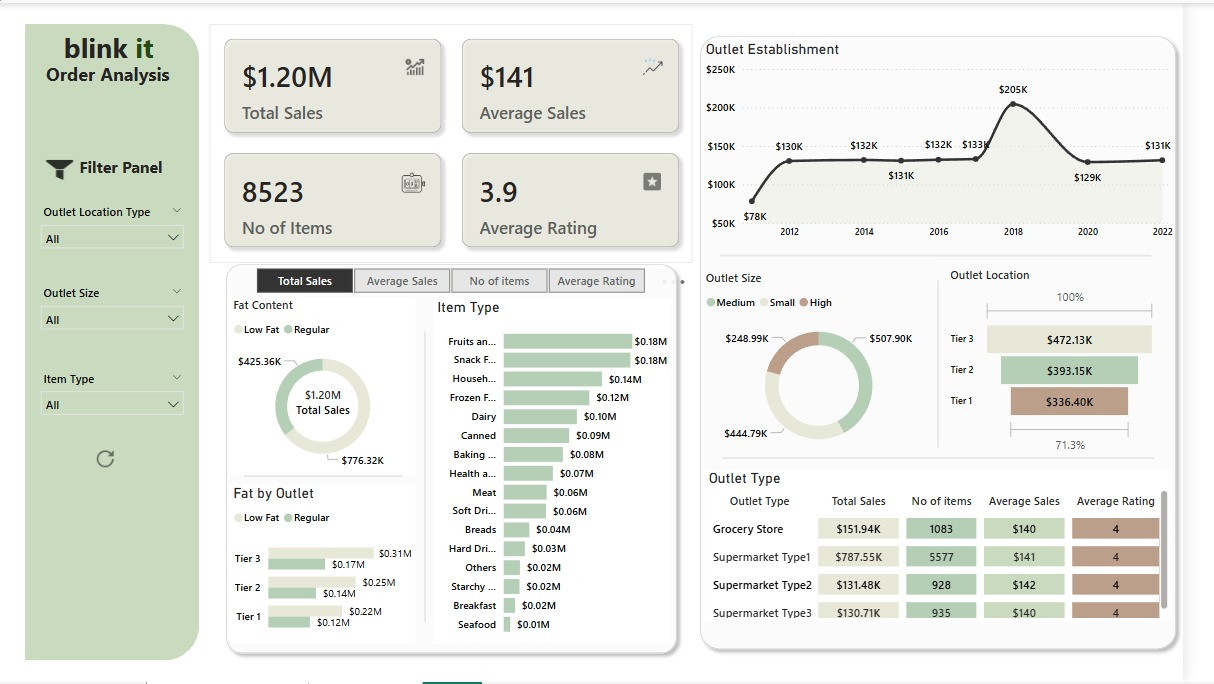

Layout of this report page (visuals, bound fields, positions):
{"tool":"powerbi","page":{"name":"Blinkit order","canvas":[1400,800],"ordinal":0},"visuals":[{"type":"shape","box":[35.1,24.5,205.3,750],"z":0},{"type":"cardVisual","fields":{"Data":["BlinkIT Grocery Data.Total Sales","BlinkIT Grocery Data.Average Sales","BlinkIT Grocery Data.No oF items","BlinkIT Grocery Data.Avg Rating"]},"box":[252.1,24.5,570.2,281.9],"z":1000},{"type":"shape","box":[262.8,297.9,548.9,476.6],"z":2000},{"type":"donutChart","title":" Fat Content","fields":{"Y":["BlinkIT Grocery Data.Total Sales"],"Category":["BlinkIT Grocery Data.Item Fat Content"]},"box":[275.5,346.8,220.2,210.6],"z":3000},{"type":"slicer","fields":{"Values":["Metrices.Metrices"]},"box":[283,306.4,507.4,42.6],"z":4000},{"type":"cardVisual","fields":{"Data":["BlinkIT Grocery Data.Total Sales"]},"box":[326.6,435.1,119.1,58.5],"z":5000},{"type":"clusteredBarChart","title":"Fat by Outlet","fields":{"Y":["BlinkIT Grocery Data.Total Sales"],"Category":["BlinkIT Grocery Data.Outlet Location Type"],"Series":["BlinkIT Grocery Data.Item Fat Content"]},"box":[275.5,567,220.2,188.3],"z":6000},{"type":"shape","box":[292.6,537.2,187.2,40.4],"z":7000},{"type":"shape","box":[495.7,386.2,20.2,342.6],"z":8000},{"type":"barChart","title":" Item Type","fields":{"Y":["BlinkIT Grocery Data.Total Sales"],"Category":["BlinkIT Grocery Data.Item Type"]},"box":[516,348.9,280.9,406.4],"z":9000},{"type":"shape","box":[821.3,29.8,578.7,740.4],"z":10000},{"type":"lineChart","title":"Outlet Establishment ","fields":{"Category":["BlinkIT Grocery Data.Outlet Establishment Year"],"Y":["BlinkIT Grocery Data.Total Sales"]},"box":[831.9,44.7,559.6,242.6],"z":11000},{"type":"donutChart","title":"Outlet Size","fields":{"Category":["BlinkIT Grocery Data.Outlet Size"],"Y":["BlinkIT Grocery Data.Total Sales"]},"box":[831.9,313.8,275.5,225.5],"z":12000},{"type":"shape","box":[853.2,277.7,508.5,40.4],"z":13000},{"type":"funnel","title":" Outlet Location","fields":{"Y":["BlinkIT Grocery Data.Total Sales"],"Category":["BlinkIT Grocery Data.Outlet Location Type"]},"box":[1121.3,311.7,252.1,224.5],"z":14000},{"type":"shape","box":[1101.1,327.7,20.2,196.8],"z":15000},{"type":"shape","box":[856.4,516,508.5,40.4],"z":16000},{"type":"pivotTable","title":"Outlet Type","fields":{"Rows":["BlinkIT Grocery Data.Outlet Type"],"Values":["BlinkIT Grocery Data.Total Sales","BlinkIT Grocery Data.No of items","BlinkIT Grocery Data.Average Sales","BlinkIT Grocery Data.Average Rating"]},"box":[835.1,550,551.1,178.7],"z":17000},{"type":"slicer","fields":{"Values":["BlinkIT Grocery Data.Outlet Location Type"]},"box":[43.6,231.9,188.3,74.5],"z":18000},{"type":"slicer","fields":{"Values":["BlinkIT Grocery Data.Outlet Size"]},"box":[43.6,327.7,188.3,74.5],"z":19000},{"type":"slicer","fields":{"Values":["BlinkIT Grocery Data.Item Type"]},"box":[43.6,427.7,188.3,74.5],"z":20000},{"type":"textbox","box":[66,175.5,166,40.4],"z":21000},{"type":"actionButton","box":[57.4,183,36.2,25.5],"z":22000},{"type":"actionButton","box":[102.1,522.3,54.3,27.7],"z":23000},{"type":"textbox","box":[35.1,24.4,197.1,57.6],"z":24000},{"type":"textbox","box":[43.9,64.4,177.6,55.6],"z":25000}]}

Visuals, with their boxes in screenshot pixels (x1, y1, x2, y2), scaled from the page's 1400x800 canvas onto the 1214x684 screenshot:
shape: 30, 21, 208, 662
cardVisual - BlinkIT Grocery Data.Total Sales x BlinkIT Grocery Data.Average Sales: 219, 21, 713, 262
shape: 228, 255, 704, 662
" Fat Content" donutChart: 239, 297, 430, 477
slicer - Metrices.Metrices: 245, 262, 685, 298
cardVisual - BlinkIT Grocery Data.Total Sales: 283, 372, 386, 422
"Fat by Outlet" clusteredBarChart: 239, 485, 430, 646
shape: 254, 459, 416, 494
shape: 430, 330, 447, 623
" Item Type" barChart: 447, 298, 691, 646
shape: 712, 25, 1213, 659
"Outlet Establishment " lineChart: 721, 38, 1207, 246
"Outlet Size" donutChart: 721, 268, 960, 461
shape: 740, 237, 1181, 272
" Outlet Location" funnel: 972, 267, 1191, 458
shape: 955, 280, 972, 448
shape: 743, 441, 1184, 476
"Outlet Type" pivotTable: 724, 470, 1202, 623
slicer - BlinkIT Grocery Data.Outlet Location Type: 38, 198, 201, 262
slicer - BlinkIT Grocery Data.Outlet Size: 38, 280, 201, 344
slicer - BlinkIT Grocery Data.Item Type: 38, 366, 201, 429
textbox: 57, 150, 201, 185
actionButton: 50, 156, 81, 178
actionButton: 89, 447, 136, 470
textbox: 30, 21, 201, 70
textbox: 38, 55, 192, 103
